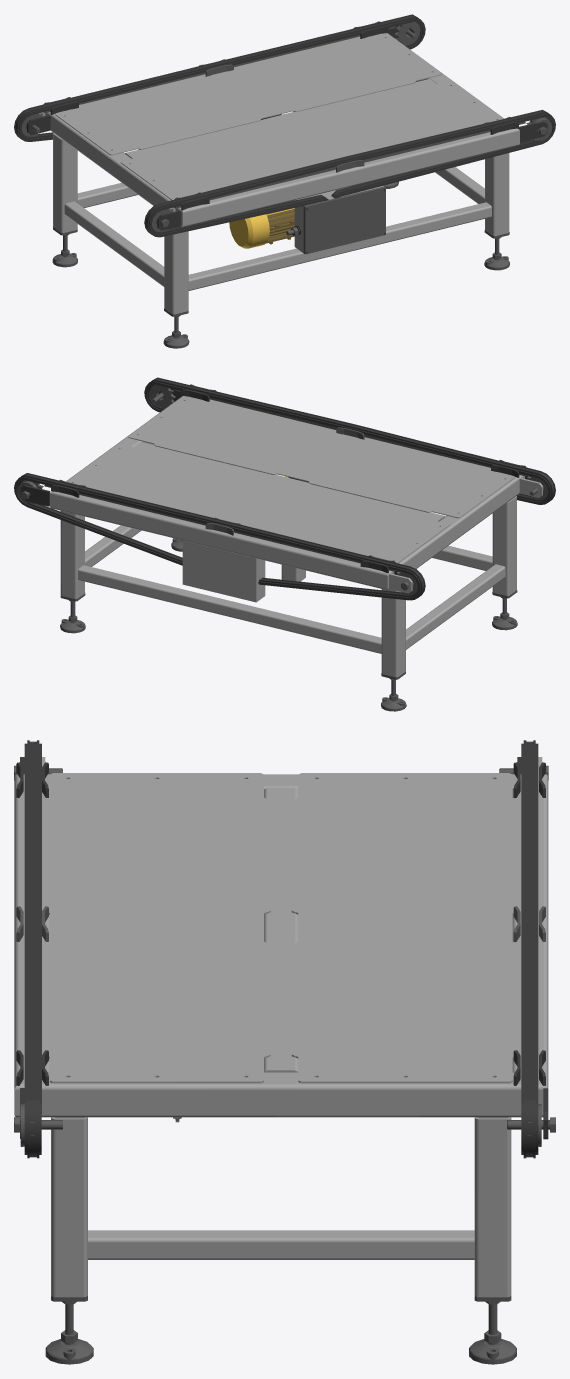
The model's file is UpdatedChainConveyor.glb.
3 views of the same model, one above another, from view 1: azimuth 30°, elevation 25°; view 2: azimuth 150°, elevation 25°; view 3: azimuth 270°, elevation 25° (orthographic). The views are drawn at different scales.
Parts seen in each view (by area): view 1: Mirror2_node_0, Mirror2, Structural Member1[2], Sweep2, Structural Member6[3], pCube4, Sweep0, Mirror6[2], Structural Member6[1], Structural Member2[3], Structural Member2[4], Structural Member2[1] (+13 smaller); view 2: Mirror2, Mirror2_node_0, Structural Member1[4], Sweep0, Structural Member6[4], Sweep2, pCube1, Mirror6[2], Structural Member6[1], Structural Member2[4], Structural Member2[3], Structural Member2[2] (+10 smaller); view 3: Mirror2_node_0, Mirror2, Mirror6[1], Structural Member6[2], Sweep0, Sweep2, Structural Member1[5], Structural Member2[2], Structural Member2[1], Structural Member1[4], Structural Member1[2], Fillet1_node_0 (+1 smaller).
Boxes of the visible parts, x1=… form: Mirror2_node_0: x1=55, y1=33, x2=441, y2=155; Mirror2: x1=120, y1=81, x2=503, y2=200; Structural Member1[2]: x1=182, y1=128, x2=519, y2=227; Sweep2: x1=144, y1=109, x2=555, y2=237; Structural Member6[3]: x1=188, y1=202, x2=491, y2=290; pCube4: x1=303, y1=186, x2=385, y2=254; Sweep0: x1=14, y1=14, x2=425, y2=141; Mirror6[2]: x1=45, y1=111, x2=182, y2=226; Structural Member6[1]: x1=64, y1=201, x2=164, y2=286; Structural Member2[3]: x1=53, y1=133, x2=77, y2=232; Structural Member2[4]: x1=164, y1=231, x2=188, y2=314; Structural Member2[1]: x1=485, y1=153, x2=509, y2=236; Mirror2: x1=128, y1=396, x2=514, y2=518; Mirror2_node_0: x1=66, y1=444, x2=449, y2=563; Structural Member1[4]: x1=50, y1=491, x2=387, y2=589; Sweep0: x1=14, y1=473, x2=425, y2=600; Structural Member6[4]: x1=78, y1=565, x2=381, y2=653; Sweep2: x1=144, y1=377, x2=555, y2=504; pCube1: x1=182, y1=540, x2=265, y2=602; Mirror6[2]: x1=387, y1=474, x2=524, y2=589; Structural Member6[1]: x1=406, y1=564, x2=505, y2=649; Structural Member2[4]: x1=492, y1=496, x2=516, y2=595; Structural Member2[3]: x1=381, y1=589, x2=405, y2=677; Structural Member2[2]: x1=60, y1=511, x2=84, y2=598; Mirror2_node_0: x1=291, y1=773, x2=519, y2=1083; Mirror2: x1=43, y1=773, x2=270, y2=1083; Mirror6[1]: x1=14, y1=1072, x2=546, y2=1117; Structural Member6[2]: x1=88, y1=1230, x2=474, y2=1259; Sweep0: x1=521, y1=740, x2=538, y2=1158; Sweep2: x1=24, y1=740, x2=41, y2=1158; Structural Member1[5]: x1=264, y1=787, x2=298, y2=1072; Structural Member2[2]: x1=474, y1=1117, x2=511, y2=1297; Structural Member2[1]: x1=51, y1=1117, x2=87, y2=1297; Structural Member1[4]: x1=512, y1=774, x2=548, y2=1088; Structural Member1[2]: x1=14, y1=774, x2=49, y2=1089; Fillet1_node_0: x1=469, y1=1296, x2=516, y2=1364.
Size of the model in its own units: 146 by 52.47 by 88.32.
